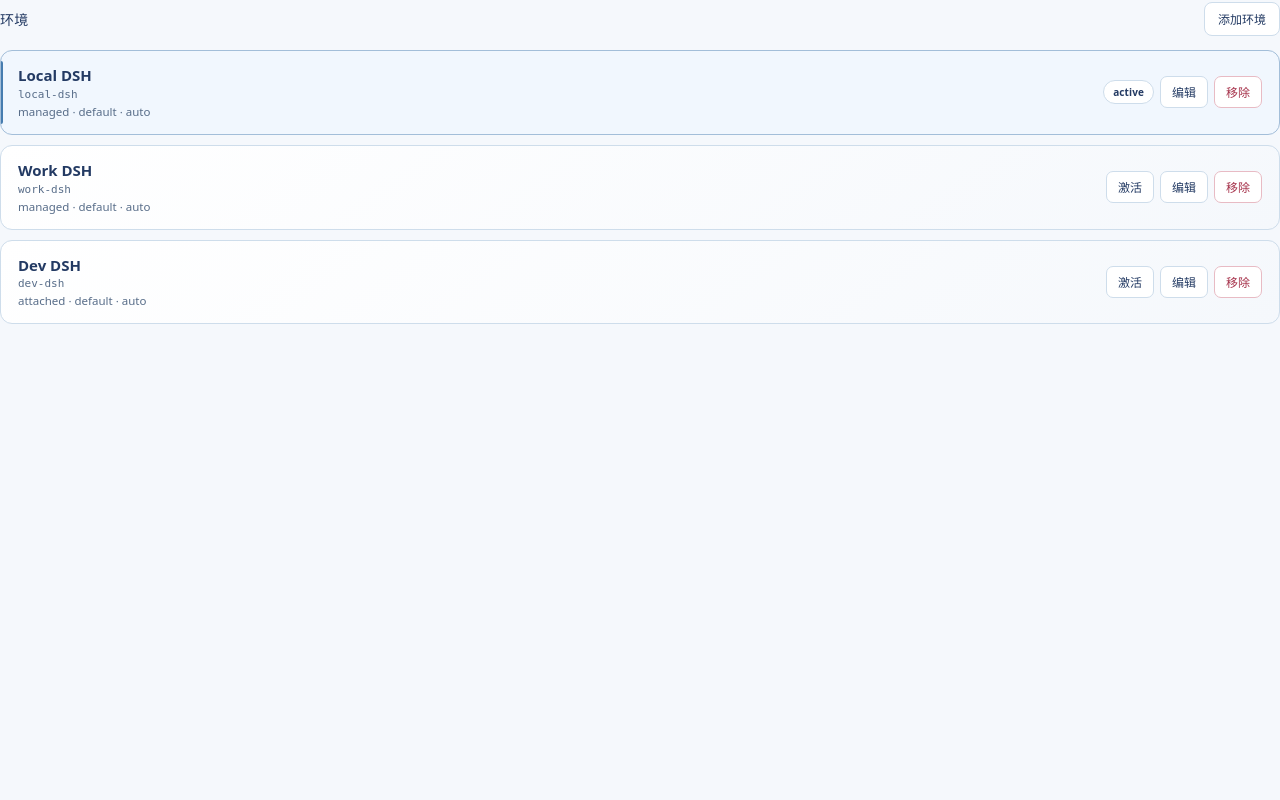
EnvironmentList › surfaces the backend message when removal fails
This screenshot has width=1280, height=800.
Step 1. Click the button with test id "remove-work-dsh" → (1238, 187), box [1214, 171, 1262, 203]
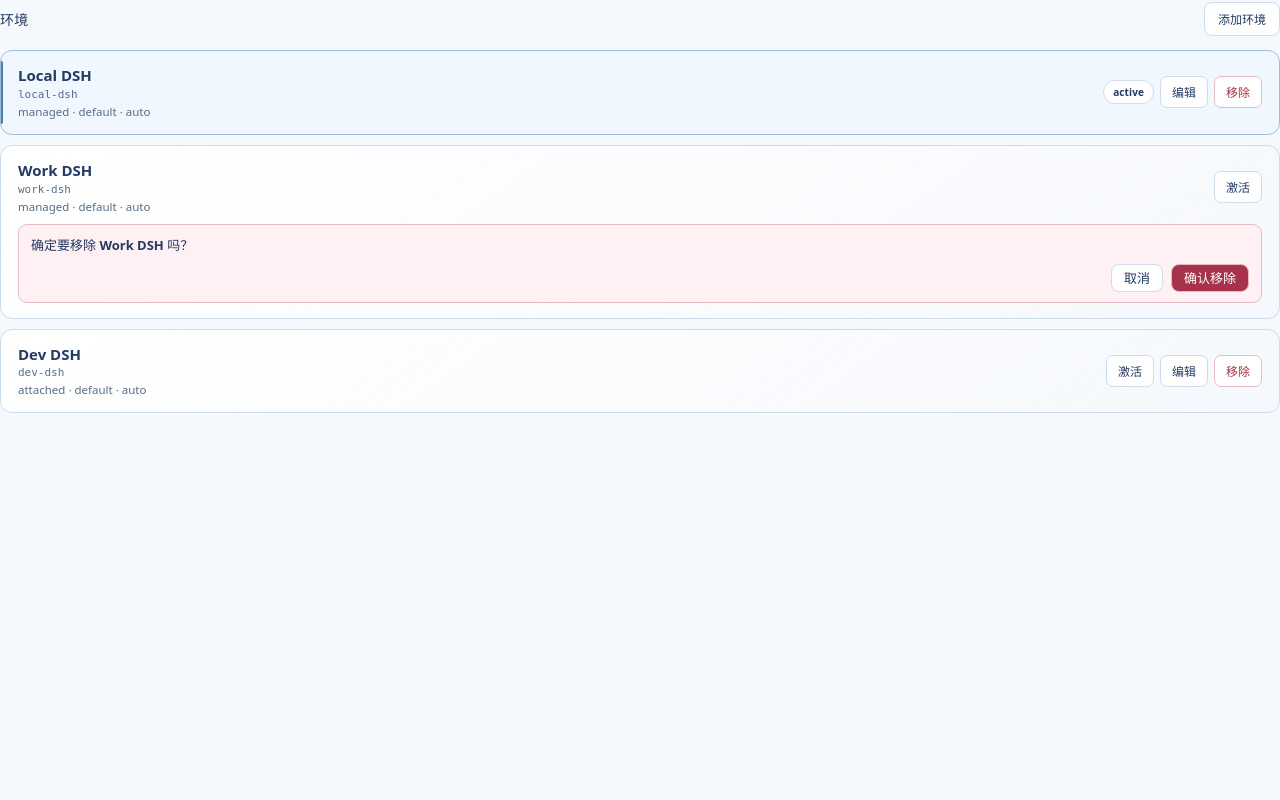
Step 2. Click the button with test id "remove-confirm-work-dsh" → (1210, 278), box [1171, 264, 1249, 292]
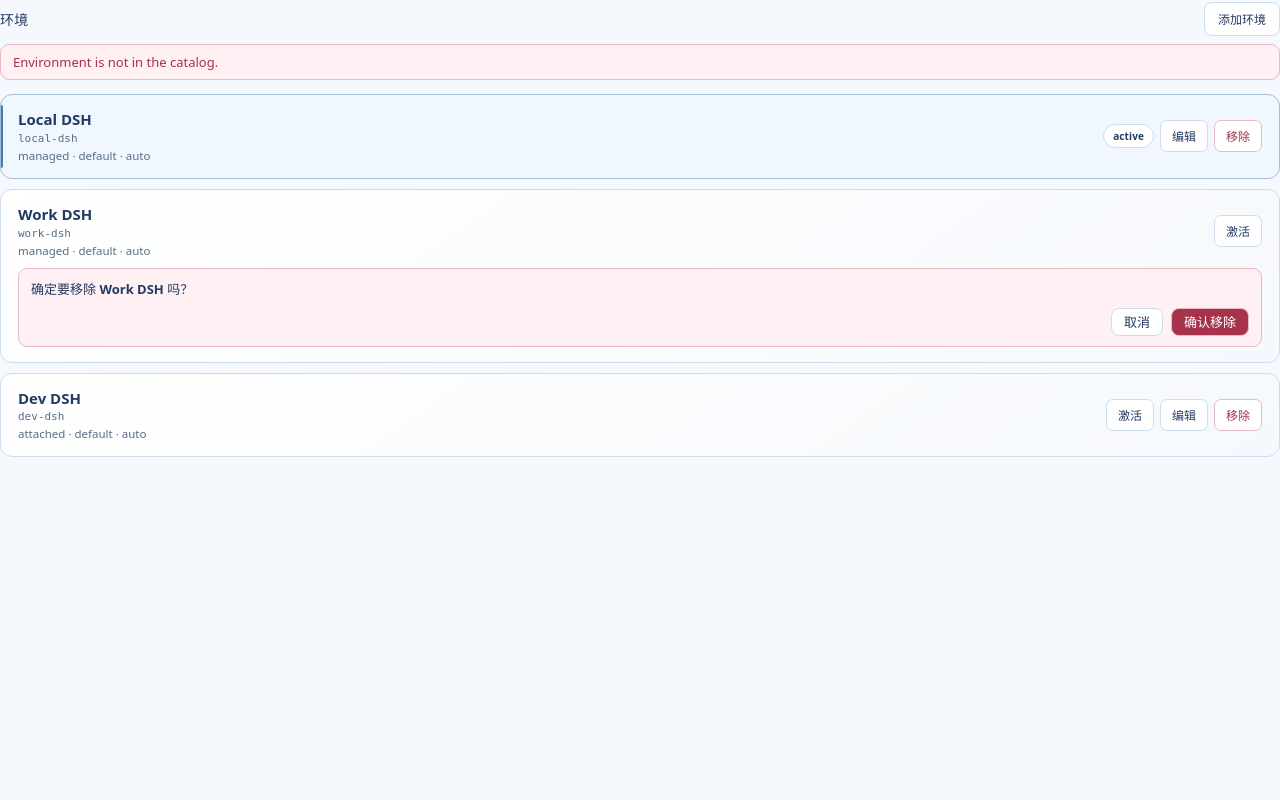
Check: the text "Environment is not in the catalog." is shown, box [0, 44, 1279, 80]
